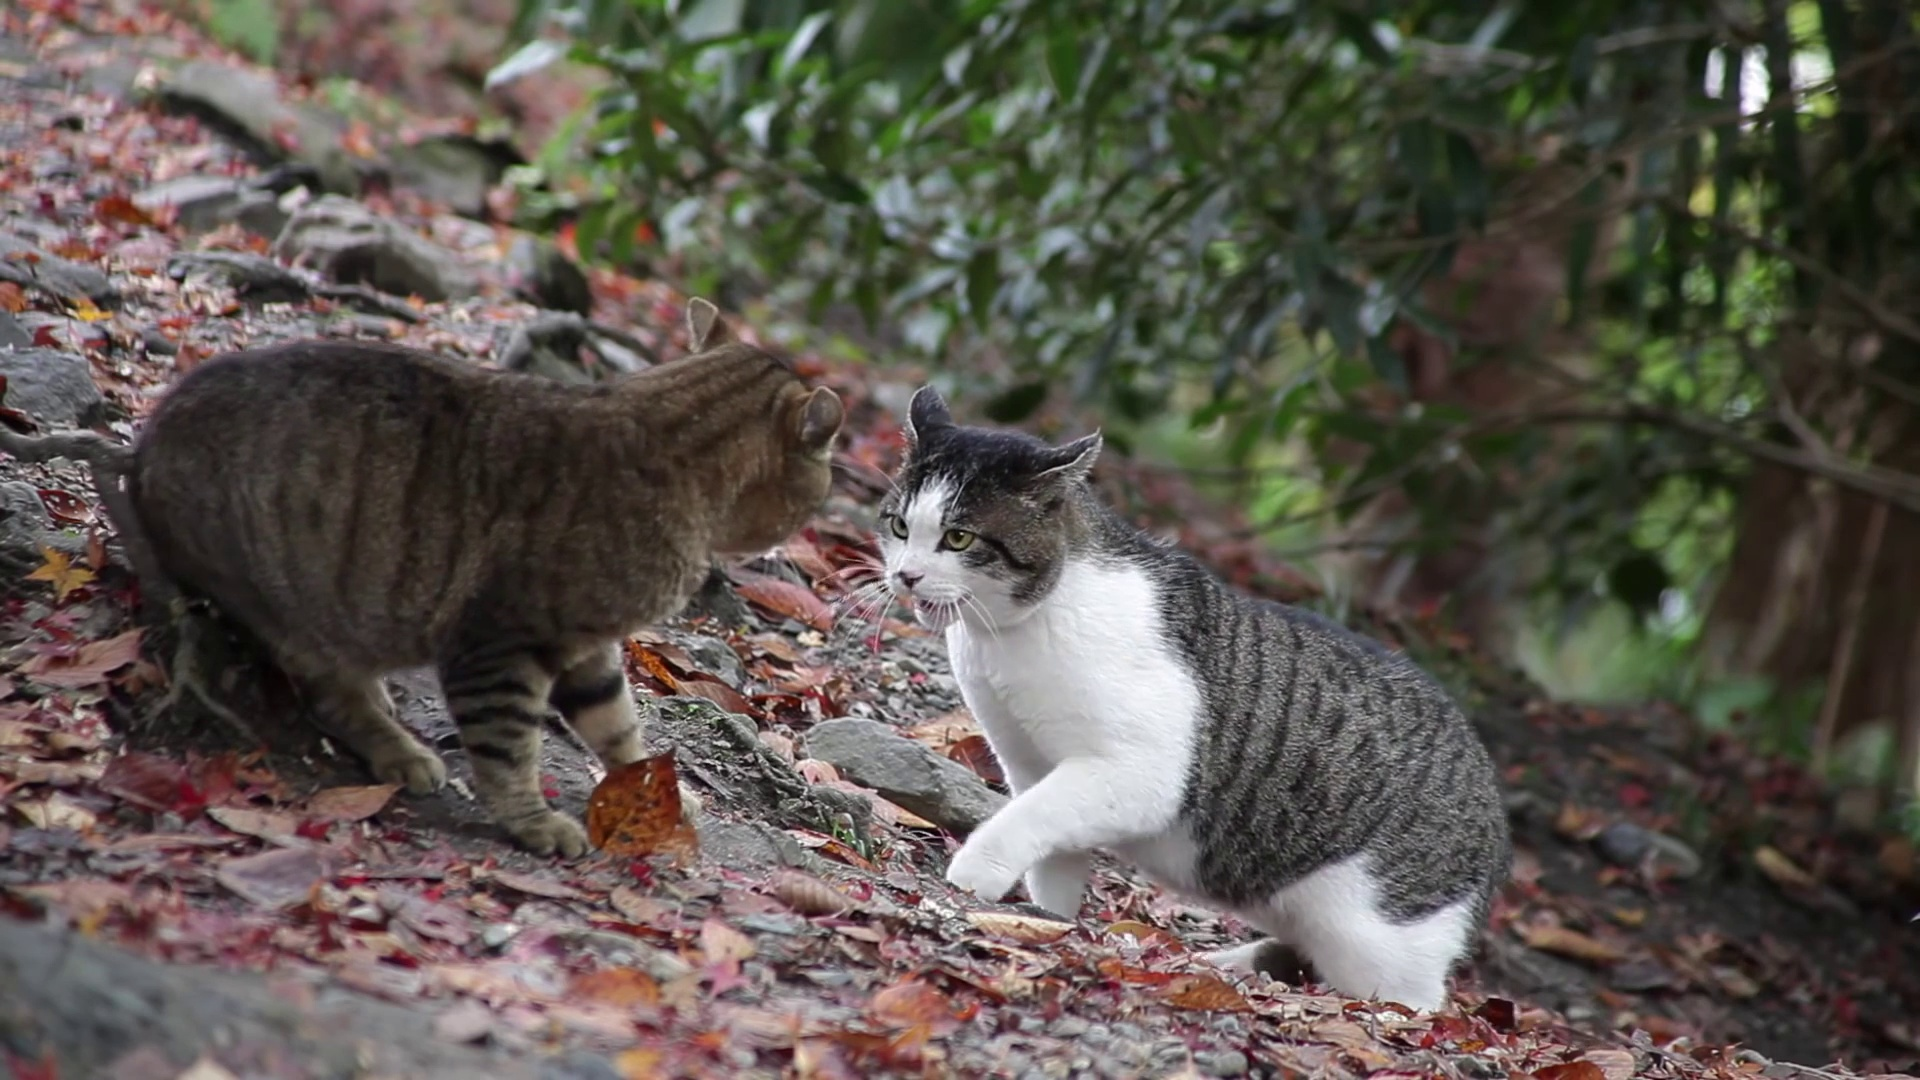black-white: (884, 384, 1513, 1014)
pure black: (138, 295, 845, 858)
